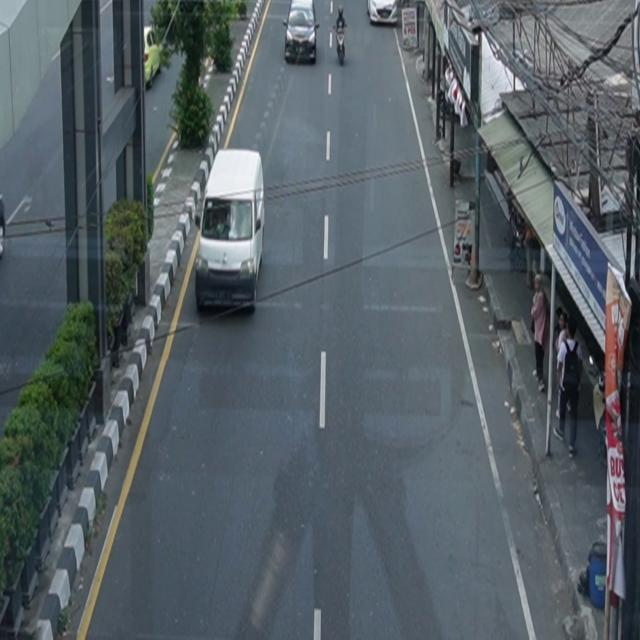bus: (196, 148, 265, 313)
car: (284, 1, 321, 65), (144, 26, 162, 90), (368, 1, 399, 26)
